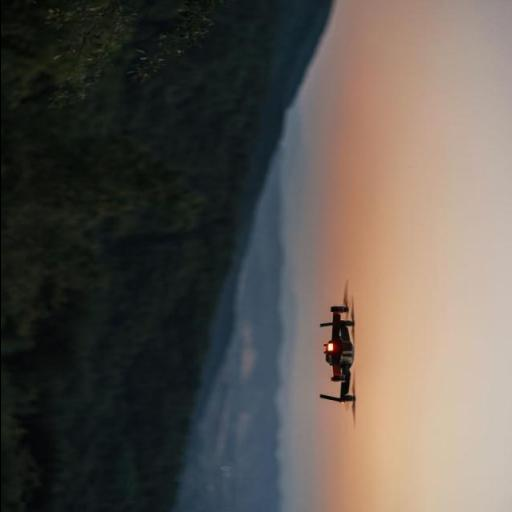uav: (316, 283, 366, 431)
